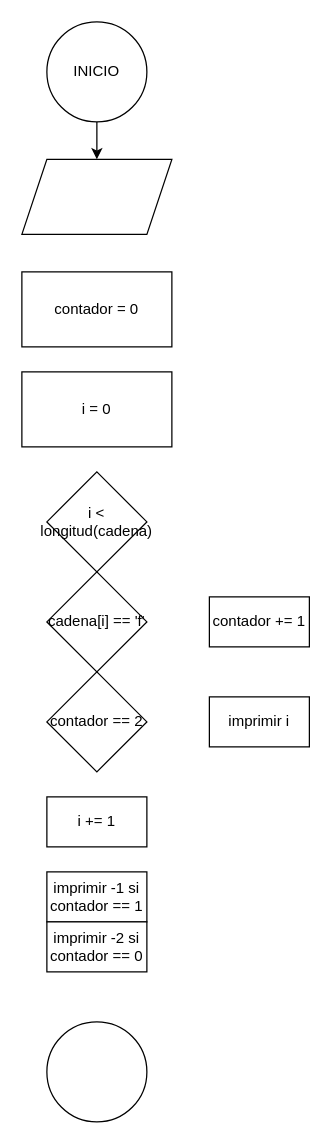
The diagram is 331 pixels wide and 1144 high, and some of its shapes have lost their labels. The centre of each missing label's shape, as x and y in pixels:
"FIN" belongs at (x=96, y=1071).
"INPUT cadena" belongs at (x=96, y=196).
